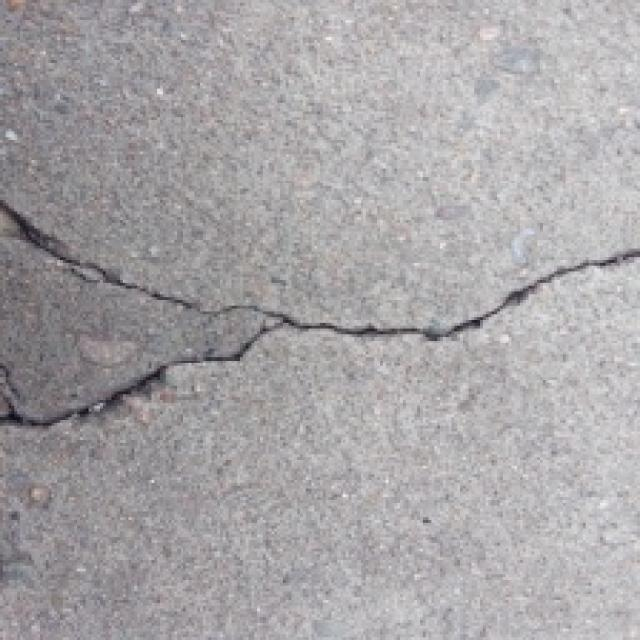crack: (0, 180, 640, 438)
